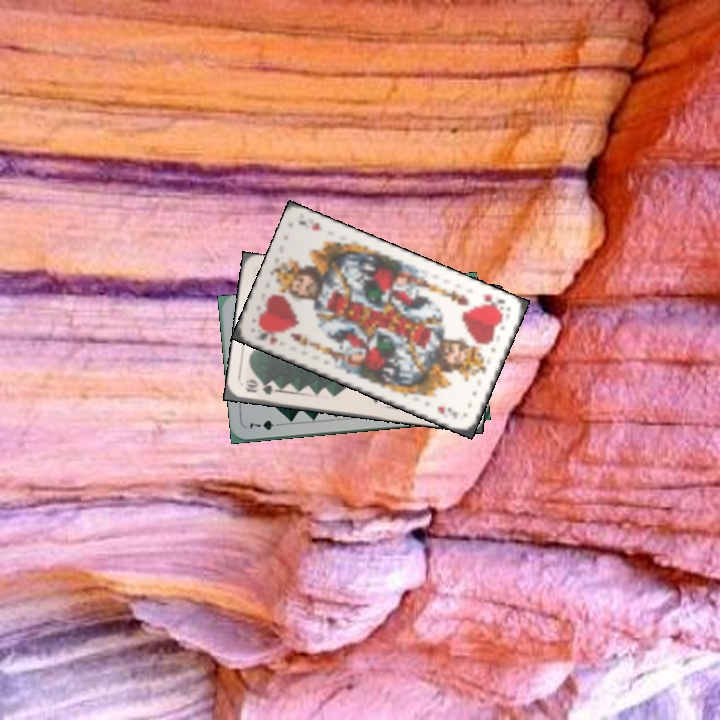G10: (241, 378, 281, 397)
G7: (246, 416, 285, 432)
HK: (477, 290, 507, 316), (253, 328, 281, 347)
